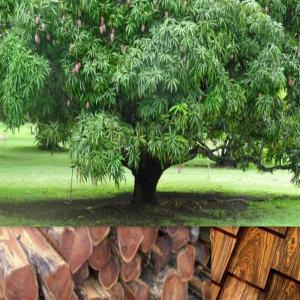Tree: (1, 3, 299, 203)
